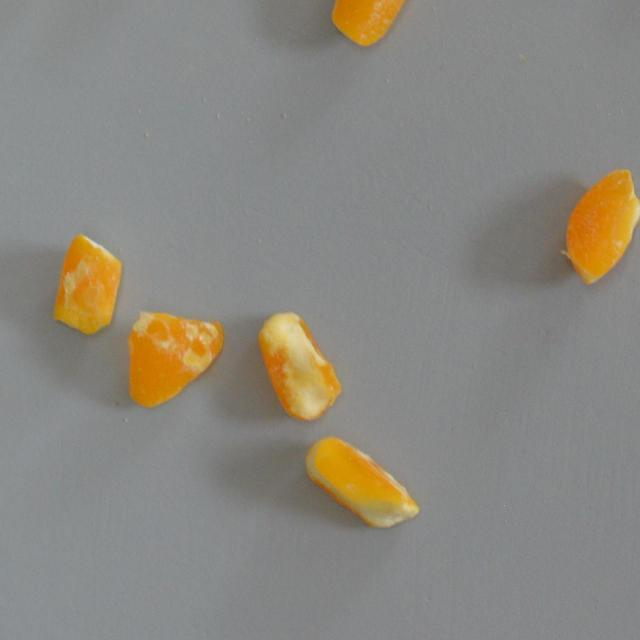pelicula: (302, 435, 420, 530), (126, 312, 224, 412), (256, 311, 343, 422), (561, 168, 640, 286), (48, 232, 124, 338), (326, 0, 430, 52)
